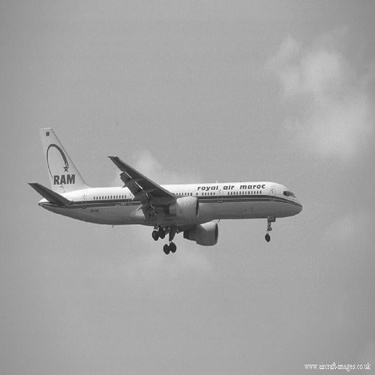airplane: (27, 110, 304, 256)
